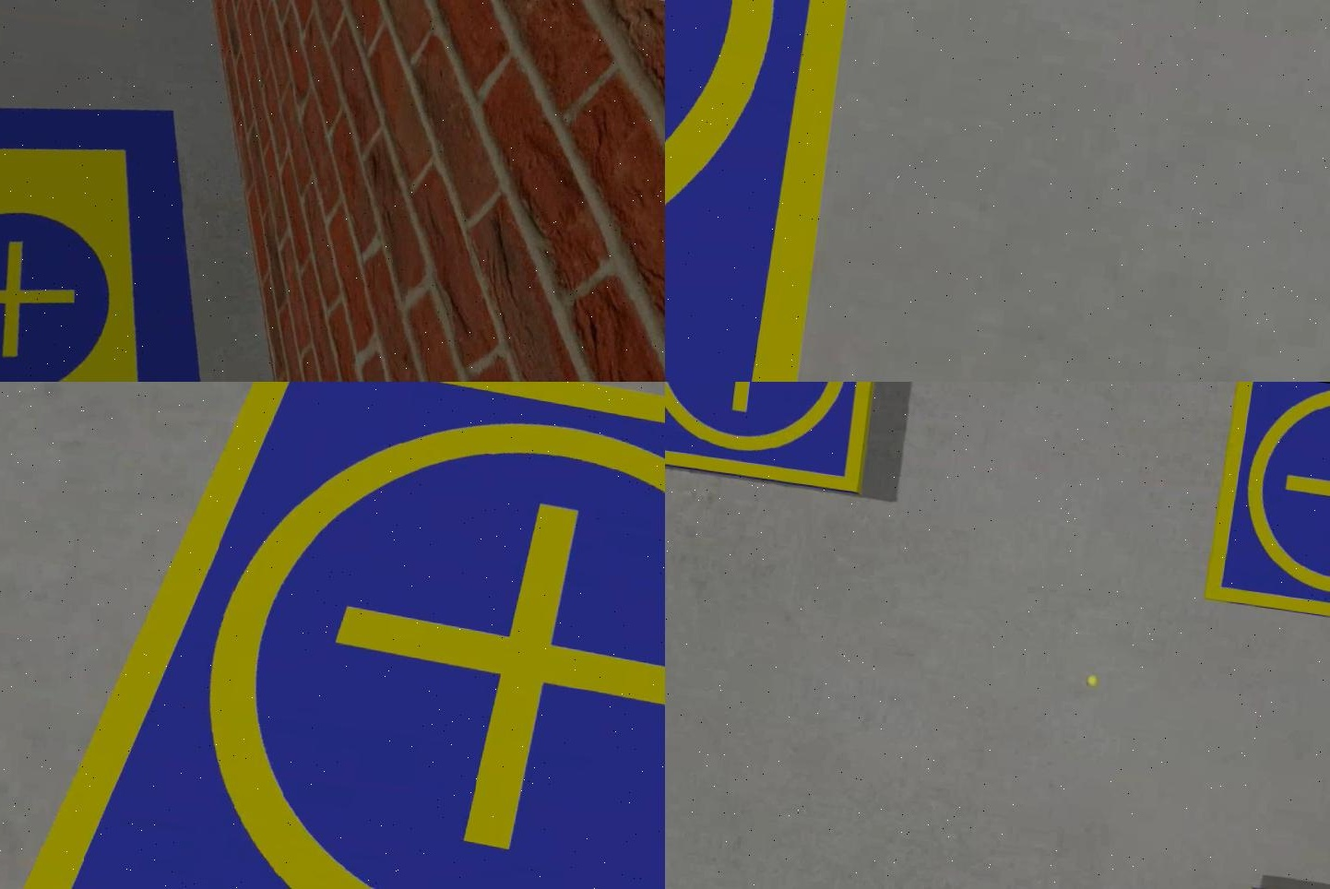large_base: (0, 65, 271, 382)
small_base: (0, 382, 663, 889), (663, 1, 884, 382), (1203, 382, 1328, 637), (663, 382, 880, 494)
